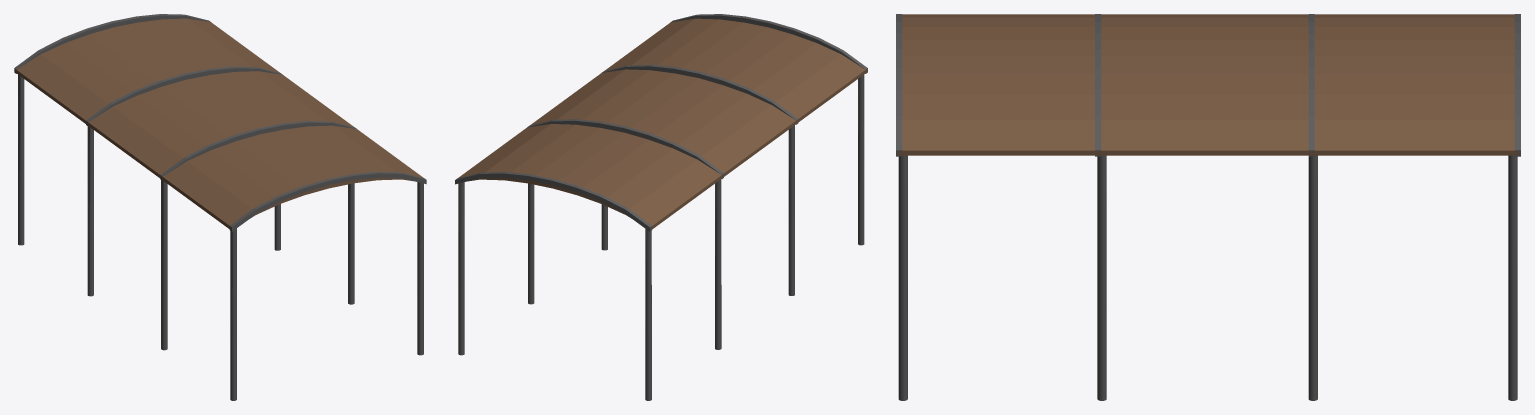
File: carriage-covering.dae
3 views of the same model, side by side, from view 1: azimuth 30°, elevation 25°; view 2: azimuth 150°, elevation 25°; view 3: azimuth 270°, elevation 25° (orthographic). The views are drawn at different scales.
Parts seen in each view (by area): view 1: Cube, Cube_001, Cylinder_009, Cylinder_010, Cube_003, Cube_004, Cylinder_014, Cylinder_015, Cylinder_011, Cube_002, Cylinder_012; view 2: Cube, Cube_004, Cylinder_016, Cube_003, Cylinder_015, Cylinder_010, Cube_001, Cylinder_014, Cylinder_011, Cube_002, Cylinder_013; view 3: Cube, Cylinder_016, Cylinder_012, Cylinder_009, Cylinder_013, Cube_003, Cube_004, Cube_001, Cube_002.
Boxes of the visible parts, box(x1,y1,x2,y2) form: Cube: box(15, 18, 423, 230); Cube_001: box(229, 171, 426, 231); Cylinder_009: box(417, 182, 423, 355); Cylinder_010: box(230, 228, 236, 400); Cube_003: box(86, 66, 282, 126); Cube_004: box(14, 14, 210, 73); Cylinder_014: box(87, 126, 93, 296); Cylinder_015: box(18, 74, 24, 245); Cylinder_011: box(161, 180, 167, 350); Cube_002: box(160, 121, 356, 180); Cylinder_012: box(348, 183, 354, 304); Cube: box(458, 18, 867, 230); Cube_004: box(455, 172, 652, 231); Cylinder_016: box(458, 182, 464, 355); Cube_003: box(527, 119, 723, 178); Cylinder_015: box(645, 229, 651, 400); Cylinder_010: box(858, 74, 864, 245); Cube_001: box(671, 14, 867, 73); Cylinder_014: box(715, 179, 721, 349); Cylinder_011: box(788, 125, 794, 295); Cube_002: box(602, 64, 798, 124); Cylinder_013: box(528, 183, 534, 304); Cube: box(897, 14, 1519, 155); Cylinder_016: box(1508, 155, 1517, 400); Cylinder_012: box(1097, 155, 1106, 400); Cylinder_009: box(898, 155, 907, 400); Cylinder_013: box(1308, 155, 1317, 400); Cube_003: box(1308, 14, 1314, 156); Cube_004: box(1514, 14, 1520, 156); Cube_001: box(896, 14, 902, 156); Cube_002: box(1095, 14, 1101, 156).
Size of the model in its own units: 1.73 by 3.34 by 1.68.
